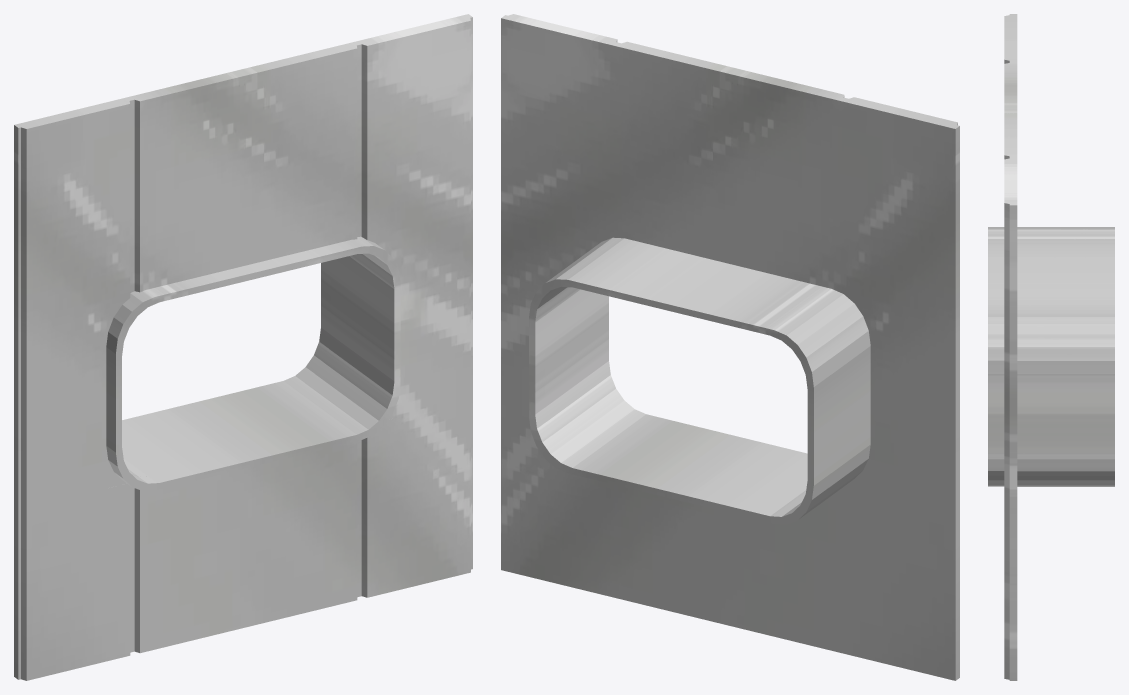
Rendered from DefaultWindowWall.fbx.
3 renders of one model, left to right at view 1: azimuth 30°, elevation 25°; view 2: azimuth 150°, elevation 25°; view 3: azimuth 270°, elevation 25°, orthographic. The views are drawn at different scales.
Parts seen in each view (by area): view 1: pCube182; view 2: pCube182; view 3: pCube182.
Part boxes in pixels (bbox=[...]): pCube182: bbox=[14, 14, 472, 680]; pCube182: bbox=[501, 14, 959, 680]; pCube182: bbox=[988, 14, 1114, 680].
Size of the model in its own units: 483 by 560 by 135.
Materials: 1 (1 with a texture image).
